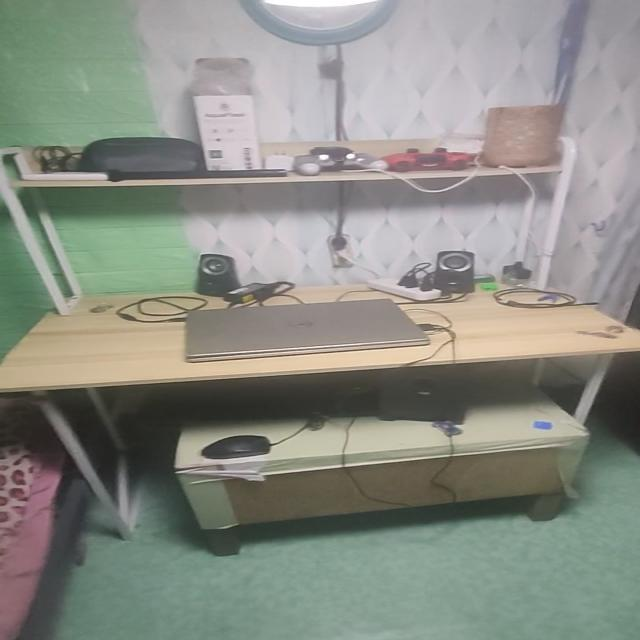table: (0, 276, 640, 541)
